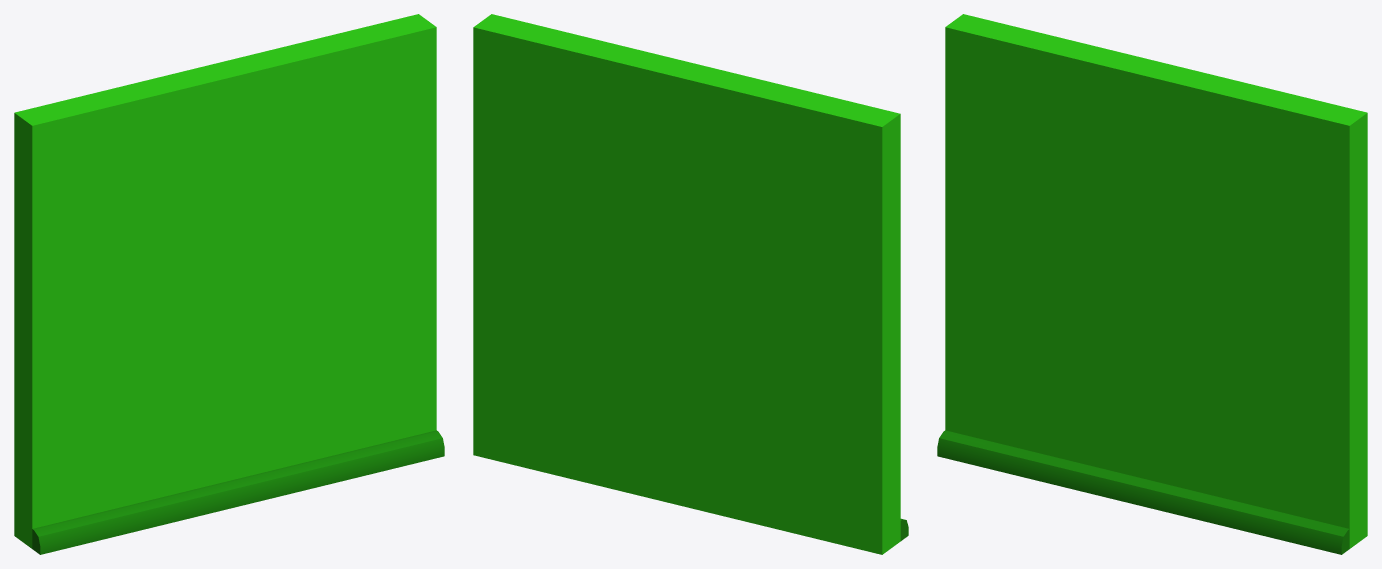
The model's file is G_Wall005.fbx.
3 views of the same model, side by side, from view 1: azimuth 30°, elevation 25°; view 2: azimuth 150°, elevation 25°; view 3: azimuth 330°, elevation 25° (orthographic).
Visible parts, largest first — view 1: Wall005.003; view 2: Wall005.003; view 3: Wall005.003.
Part boxes in pixels (<box>): Wall005.003: <box>14,14,444,554</box>; Wall005.003: <box>473,14,908,554</box>; Wall005.003: <box>937,14,1367,554</box>.
Bounding box in the file's own units: 250 × 250 × 27.87.
1 material, 1 textured.
